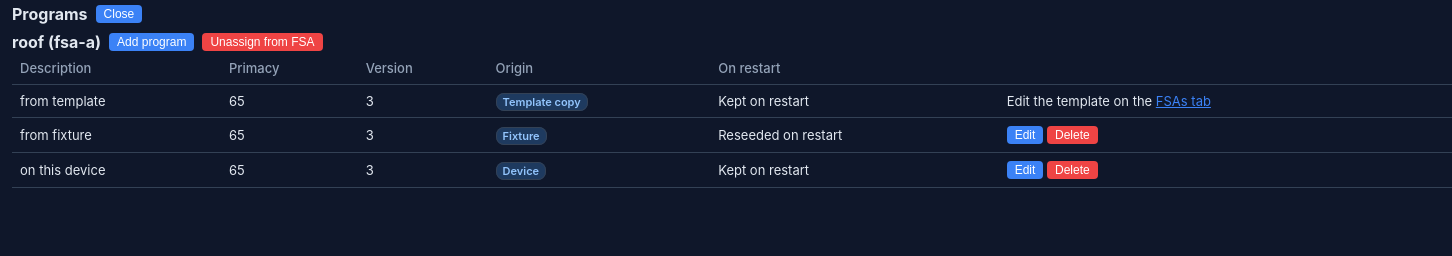
Test: DevicePrograms delete › shows a refusal as sent, with the live controls that blocked it
The image size is (1452, 256).
Click the button with test id "program-delete-derp-d".
click(1072, 170)  # box x1=1047 y1=161 x2=1098 y2=179
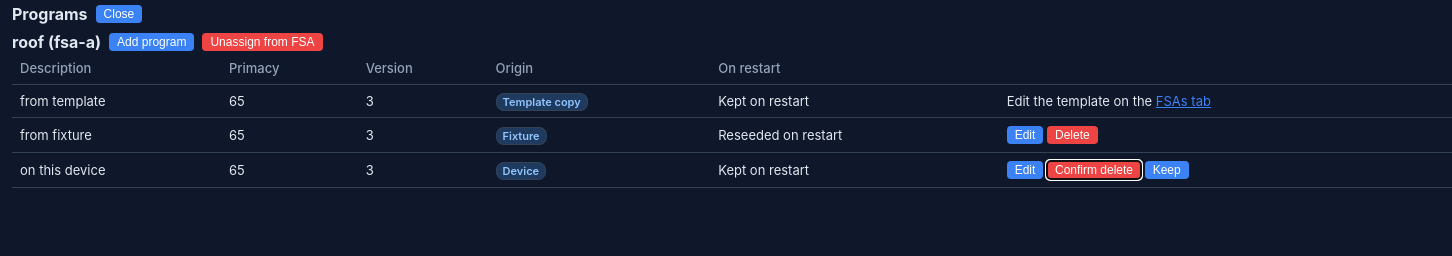
Click the button with test id "program-delete-confirm-derp-d".
click(1094, 170)  # box x1=1047 y1=161 x2=1141 y2=179
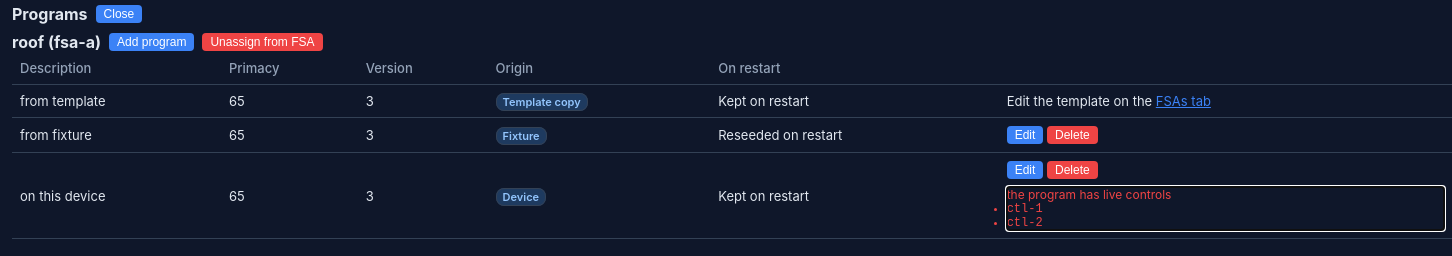
Now the message with test id "program-conflict-derp-d" shows "the program has live controls", box x1=1007 y1=187 x2=1171 y2=202
Now the message with test id "program-conflict-derp-d" shows "ctl-1", box x1=1007 y1=202 x2=1043 y2=216
Now the message with test id "program-conflict-derp-d" shows "ctl-2", box x1=1007 y1=216 x2=1043 y2=230
